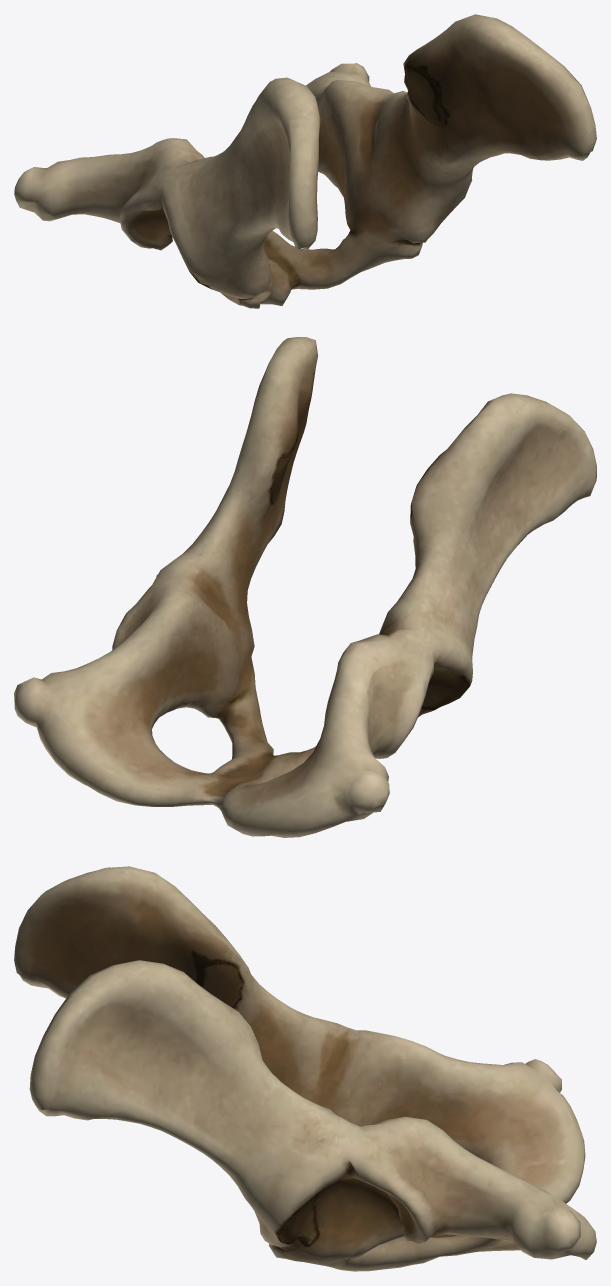
The model's file is Os_Coxae.glb.
The picture shows the model from 3 angles, top to bottom: view 1: azimuth 30°, elevation 25°; view 2: azimuth 150°, elevation 25°; view 3: azimuth 270°, elevation 25°; orthographic projection. The views are drawn at different scales.
Visible parts, largest first — view 1: Os_Coxae_Left2:Group10503; view 2: Os_Coxae_Left2:Group10503; view 3: Os_Coxae_Left2:Group10503.
Boxes of the visible parts, x1,y1,x2,y2 form: Os_Coxae_Left2:Group10503: (14,14,596,308); Os_Coxae_Left2:Group10503: (14,337,596,837); Os_Coxae_Left2:Group10503: (14,866,596,1271).
Bounding box in the file's own units: 78.03 × 67.87 × 103.
Materials: 1 (1 with a texture image).
